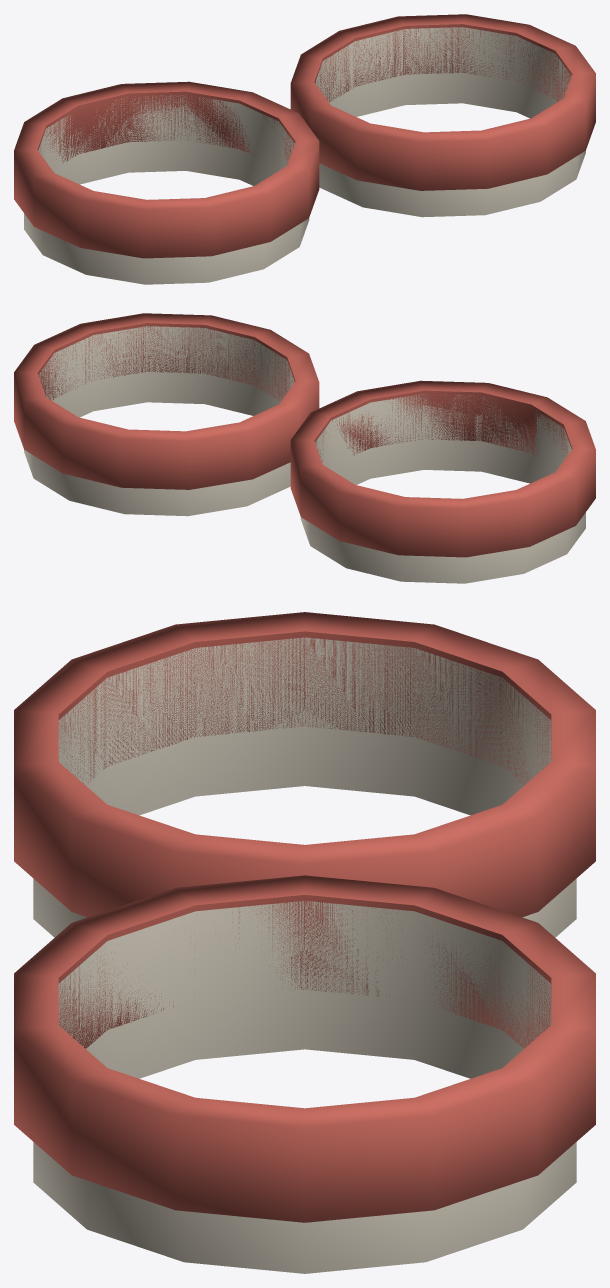
The model's file is no_show_socks.glb.
3 views of the same model, one above another, from view 1: azimuth 30°, elevation 25°; view 2: azimuth 150°, elevation 25°; view 3: azimuth 270°, elevation 25° (orthographic). The views are drawn at different scales.
Parts seen in each view (by area): view 1: no_show_socks_LegL, no_show_socks_LegR; view 2: no_show_socks_LegL, no_show_socks_LegR; view 3: no_show_socks_LegR, no_show_socks_LegL.
Boxes of the visible parts, x1,y1,x2,y2 form: no_show_socks_LegL: (14,81,319,284); no_show_socks_LegR: (290,14,595,217); no_show_socks_LegL: (290,380,595,583); no_show_socks_LegR: (14,313,319,516); no_show_socks_LegR: (14,875,595,1273); no_show_socks_LegL: (14,612,595,937).
Bounding box in the file's own units: 0.372 × 0.052 × 0.1774.
